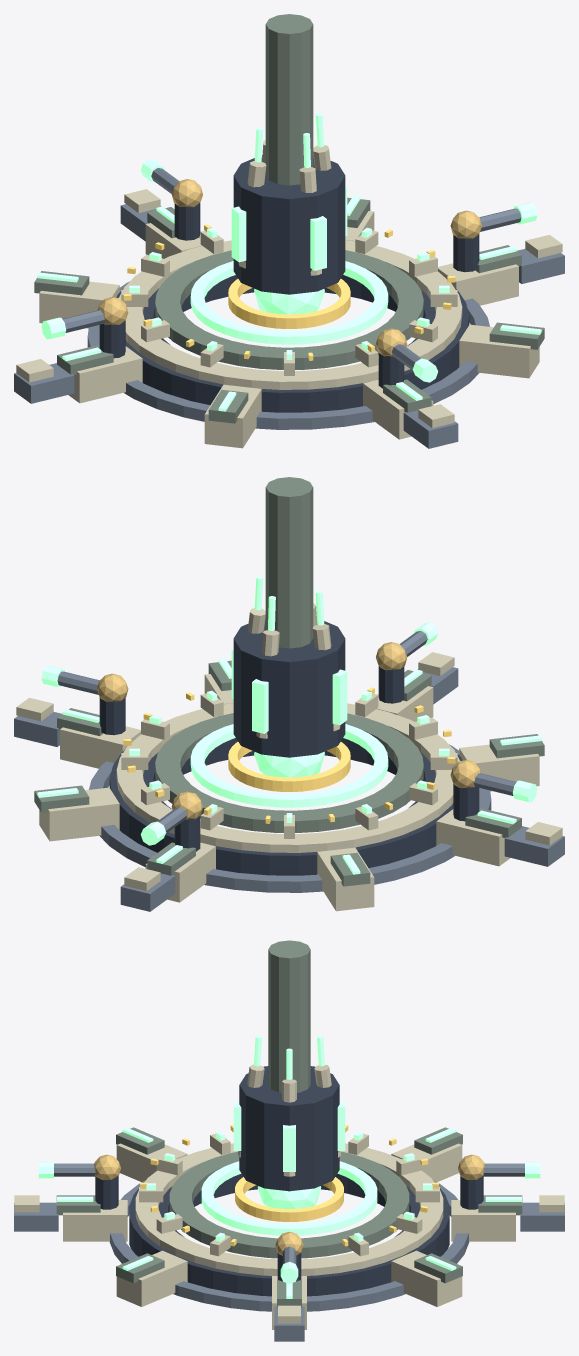
Rendered from relay_1_jupiter.glb.
The picture shows the model from 3 angles, top to bottom: view 1: azimuth 30°, elevation 25°; view 2: azimuth 150°, elevation 25°; view 3: azimuth 270°, elevation 25°; orthographic projection. The views are drawn at different scales.
Visible parts, largest first — view 1: RLY_1, RLY_2, RLY_0, RLY_3, RLY_4, RLY_5, RLY_6; view 2: RLY_1, RLY_2, RLY_0, RLY_3, RLY_4, RLY_5, RLY_6; view 3: RLY_1, RLY_0, RLY_2, RLY_3, RLY_4, RLY_5, RLY_6.
Boxes of the visible parts, x1,y1,x2,y2 form: RLY_1: (16,140,562,448); RLY_2: (34,14,544,423); RLY_0: (99,155,479,412); RLY_3: (37,113,541,411); RLY_4: (14,168,564,448); RLY_5: (123,224,455,360); RLY_6: (98,179,481,356); RLY_1: (16,603,562,911); RLY_2: (34,477,544,886); RLY_0: (99,619,479,875); RLY_3: (37,576,541,874); RLY_4: (14,631,564,911); RLY_5: (123,687,455,823); RLY_6: (97,642,480,819); RLY_1: (14,1064,564,1329); RLY_0: (95,1066,483,1296); RLY_2: (56,940,522,1307); RLY_3: (38,1035,540,1298); RLY_4: (14,1163,564,1341); RLY_5: (140,1125,438,1246); RLY_6: (94,1154,484,1255).
Size of the model in its own units: 9.36 by 5.43 by 9.36.
